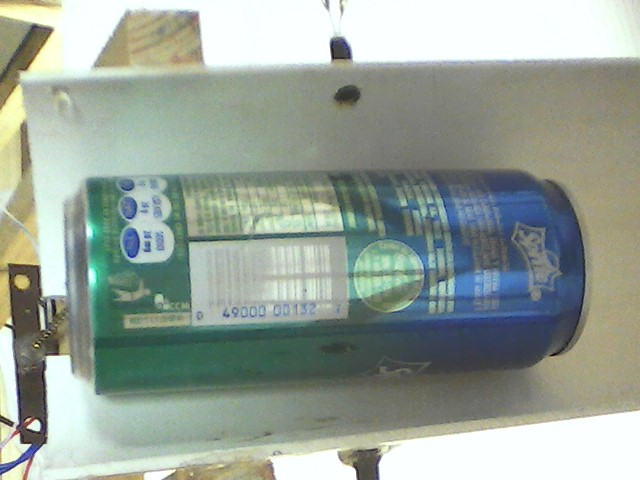lata: (59, 167, 597, 398)
